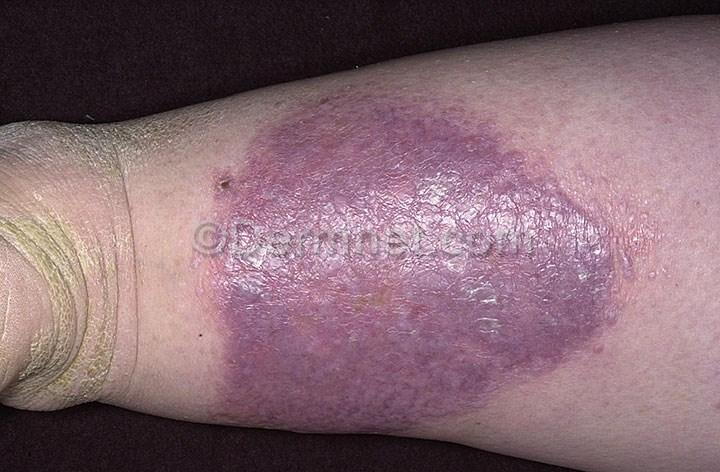Eczema: (211, 261, 465, 450), (208, 92, 546, 227), (465, 264, 649, 410), (542, 168, 630, 258)
